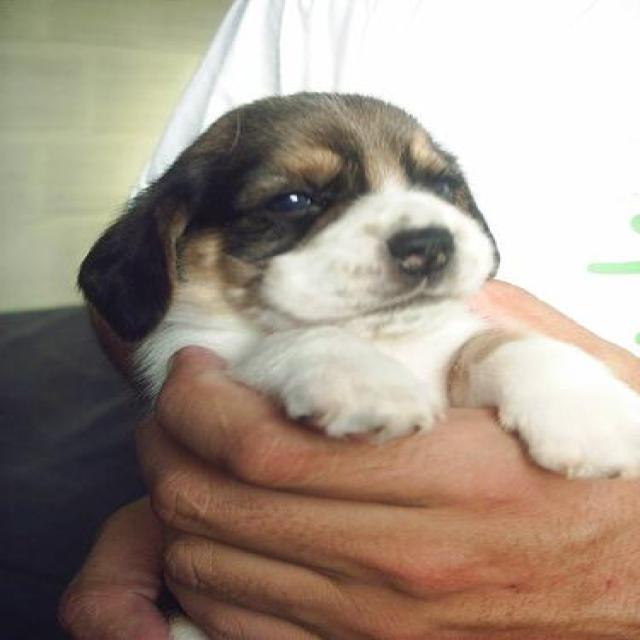beagle: (70, 92, 637, 481)
